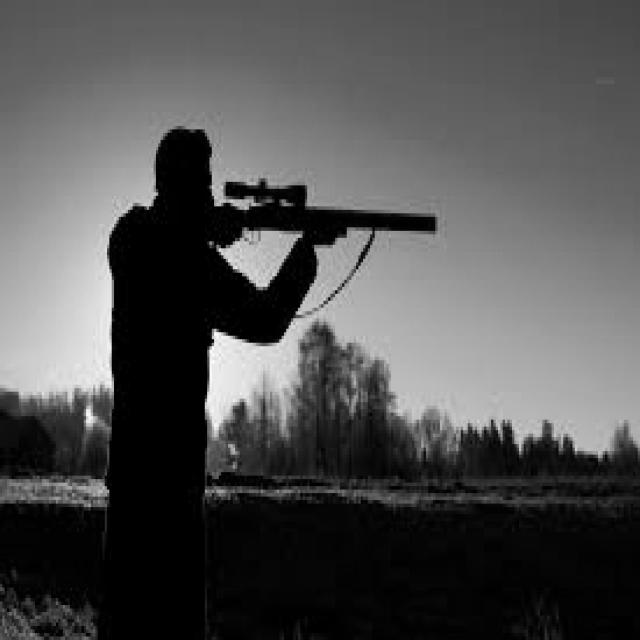rifle: (212, 179, 443, 260)
